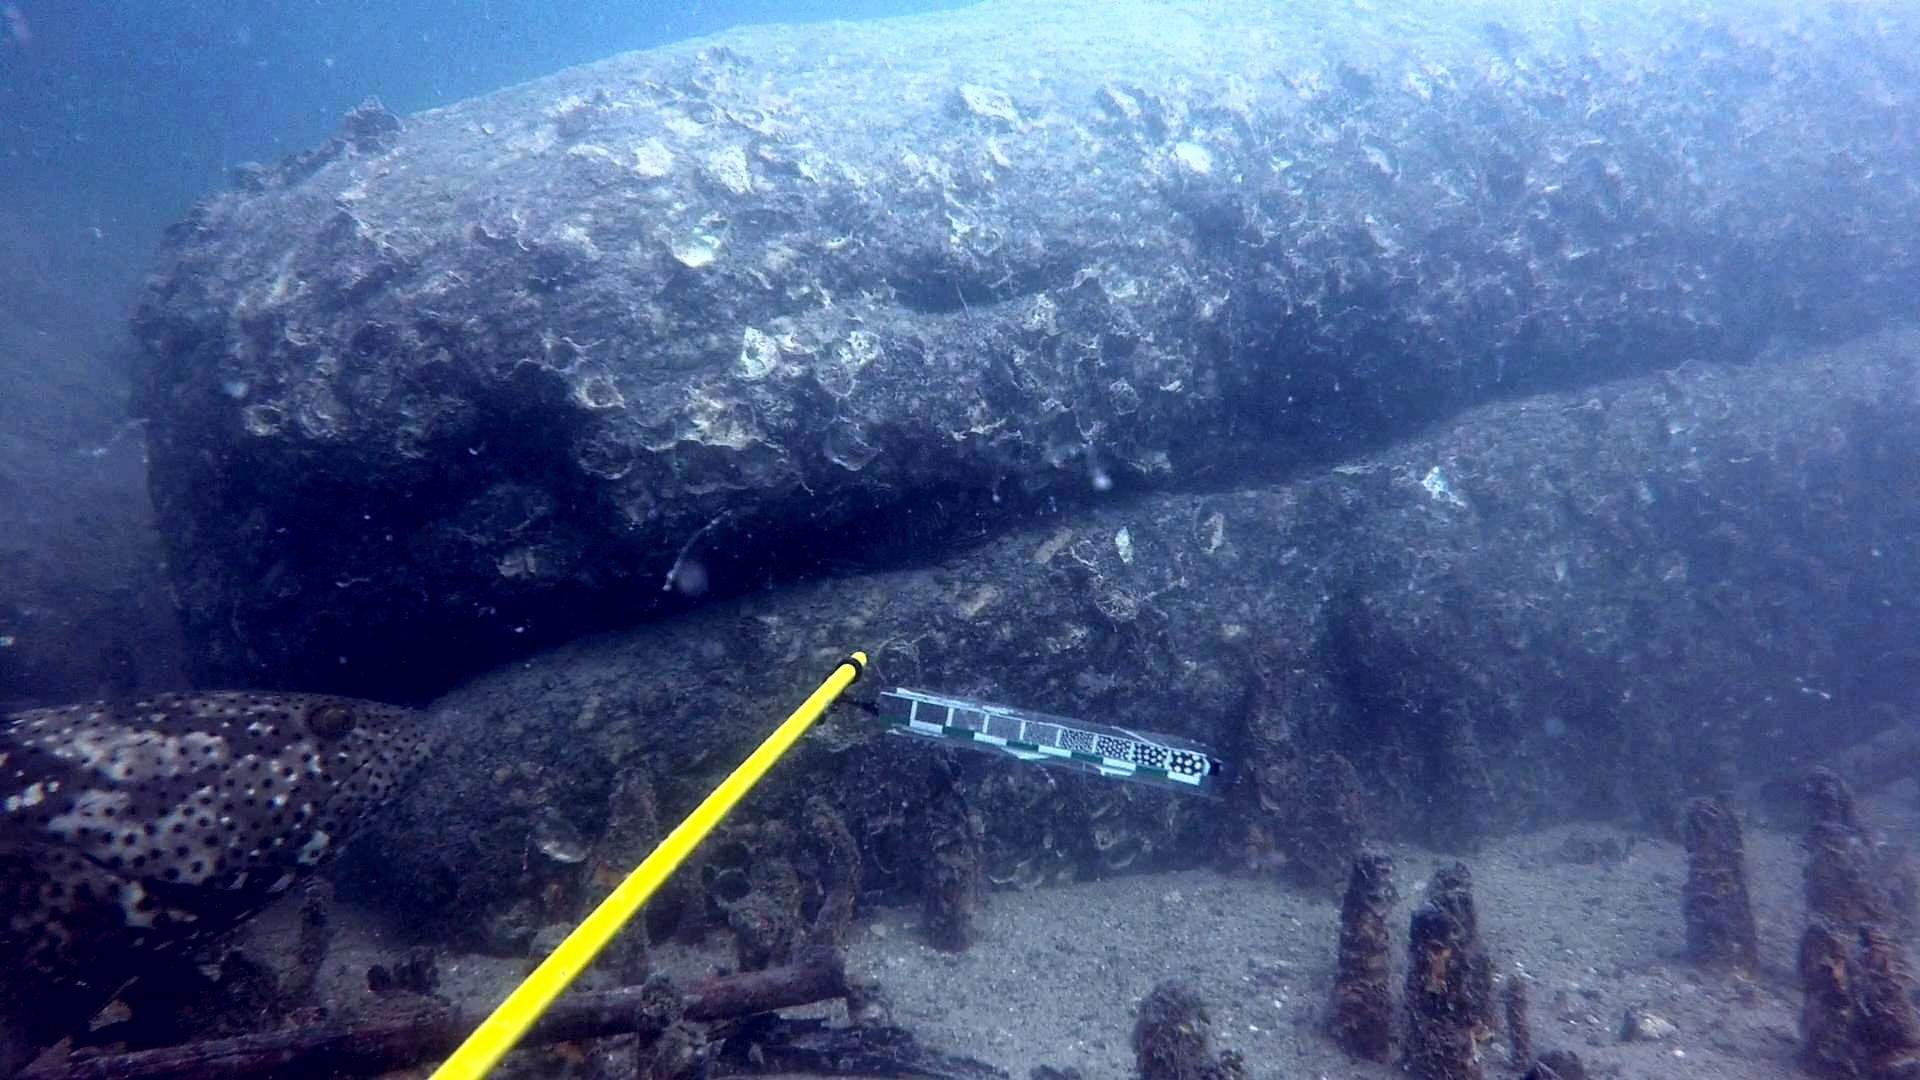epinephelus: (0, 684, 454, 1080)
